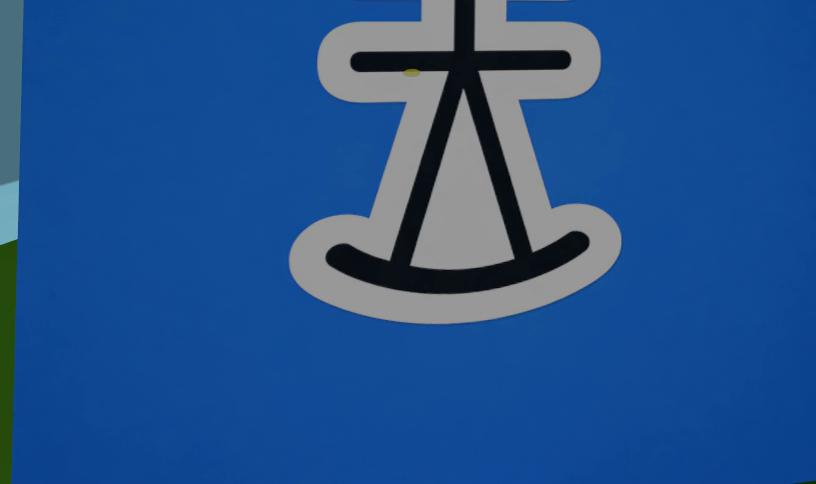KFS_REAL: (10, 0, 816, 483), (291, 0, 620, 323)
